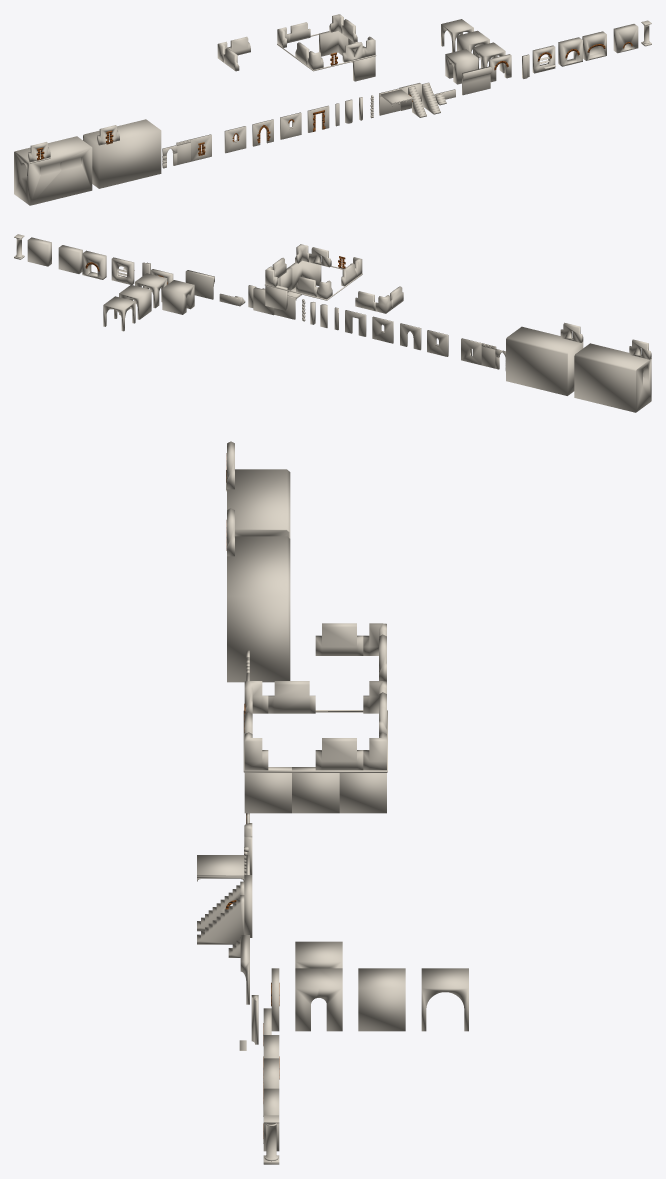
The model's file is white small wallglb.glb.
3 views of the same model, one above another, from view 1: azimuth 30°, elevation 25°; view 2: azimuth 150°, elevation 25°; view 3: azimuth 270°, elevation 25° (orthographic). The views are drawn at different scales.
Parts seen in each view (by area): view 1: Curtain Wall With Passage, Curtain Wall, Circular Arch Hall Thin, Circular Doorway.011, Fireplace, Small, Wall, Corner.001, Fireplace Large, Fireplace Large, 2 Sided, Arch Alcove, Circular Arch Hall, doors, Wall, WIndow - Arch, Circular Vault.003 (+15 smaller); view 2: Curtain Wall With Passage, Curtain Wall, Circular Arch Hall Thin, Circular Arch Hall, large, Fireplace, Small, Fireplace Large, Circular Vault.003, Circular Doorway.011, Fireplace Large, 2 Sided, Wall, Corner, Circular Arch Hall, doors, Arch Alcove (+14 smaller); view 3: Curtain Wall, Curtain Wall With Passage, Circular Arch Hall, large, Circular Arch Hall, doors, Wall.001, Wall, Corner, Wall, Corner.001, Circular Vault.003, Wall.029, Wall.031, Steps, Wall.032 (+2 smaller).
Part boxes in pixels (x1,y1,x2,y2): Curtain Wall With Passage: [14, 136, 92, 205]; Curtain Wall: [83, 119, 161, 188]; Circular Arch Hall Thin: [445, 49, 477, 84]; Circular Doorway.011: [462, 66, 491, 95]; Fireplace, Small: [613, 24, 638, 53]; Wall, Corner.001: [319, 31, 348, 56]; Fireplace Large: [582, 31, 606, 60]; Fireplace Large, 2 Sided: [558, 37, 582, 66]; Arch Alcove: [532, 45, 555, 73]; Circular Arch Hall, doors: [473, 42, 505, 73]; Wall, WIndow - Arch: [224, 126, 246, 153]; Circular Vault.003: [441, 19, 473, 52]; Curtain Wall With Passage: [574, 343, 651, 412]; Curtain Wall: [506, 326, 583, 395]; Circular Arch Hall Thin: [162, 280, 194, 314]; Circular Arch Hall, large: [119, 285, 151, 319]; Fireplace, Small: [27, 237, 51, 266]; Fireplace Large: [58, 245, 82, 273]; Circular Vault.003: [103, 296, 135, 331]; Circular Doorway.011: [185, 270, 214, 299]; Fireplace Large, 2 Sided: [82, 250, 106, 279]; Wall, Corner: [289, 260, 321, 288]; Circular Arch Hall, doors: [135, 273, 167, 308]; Arch Alcove: [111, 257, 134, 284]; Curtain Wall: [227, 536, 290, 682]; Curtain Wall With Passage: [227, 469, 290, 538]; Circular Arch Hall, large: [358, 968, 405, 1031]; Circular Arch Hall, doors: [295, 968, 342, 1031]; Wall.001: [292, 767, 339, 813]; Wall, Corner: [244, 767, 291, 813]; Wall, Corner.001: [339, 773, 386, 813]; Circular Vault.003: [421, 968, 468, 1031]; Wall.029: [315, 623, 363, 655]; Wall.031: [315, 738, 363, 770]; Steps: [197, 895, 244, 944]; Wall.032: [268, 681, 315, 713].
Bounding box in the file's own units: 83.49 × 9.83 × 15.74.
Materials: 2 (1 with a texture image).
